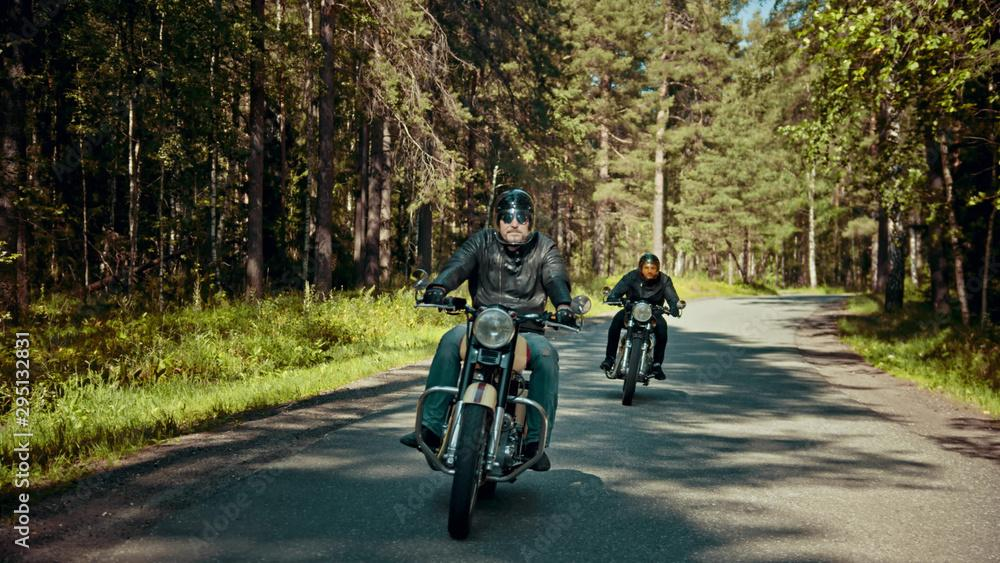helmet: (491, 188, 537, 247), (638, 253, 661, 284)
